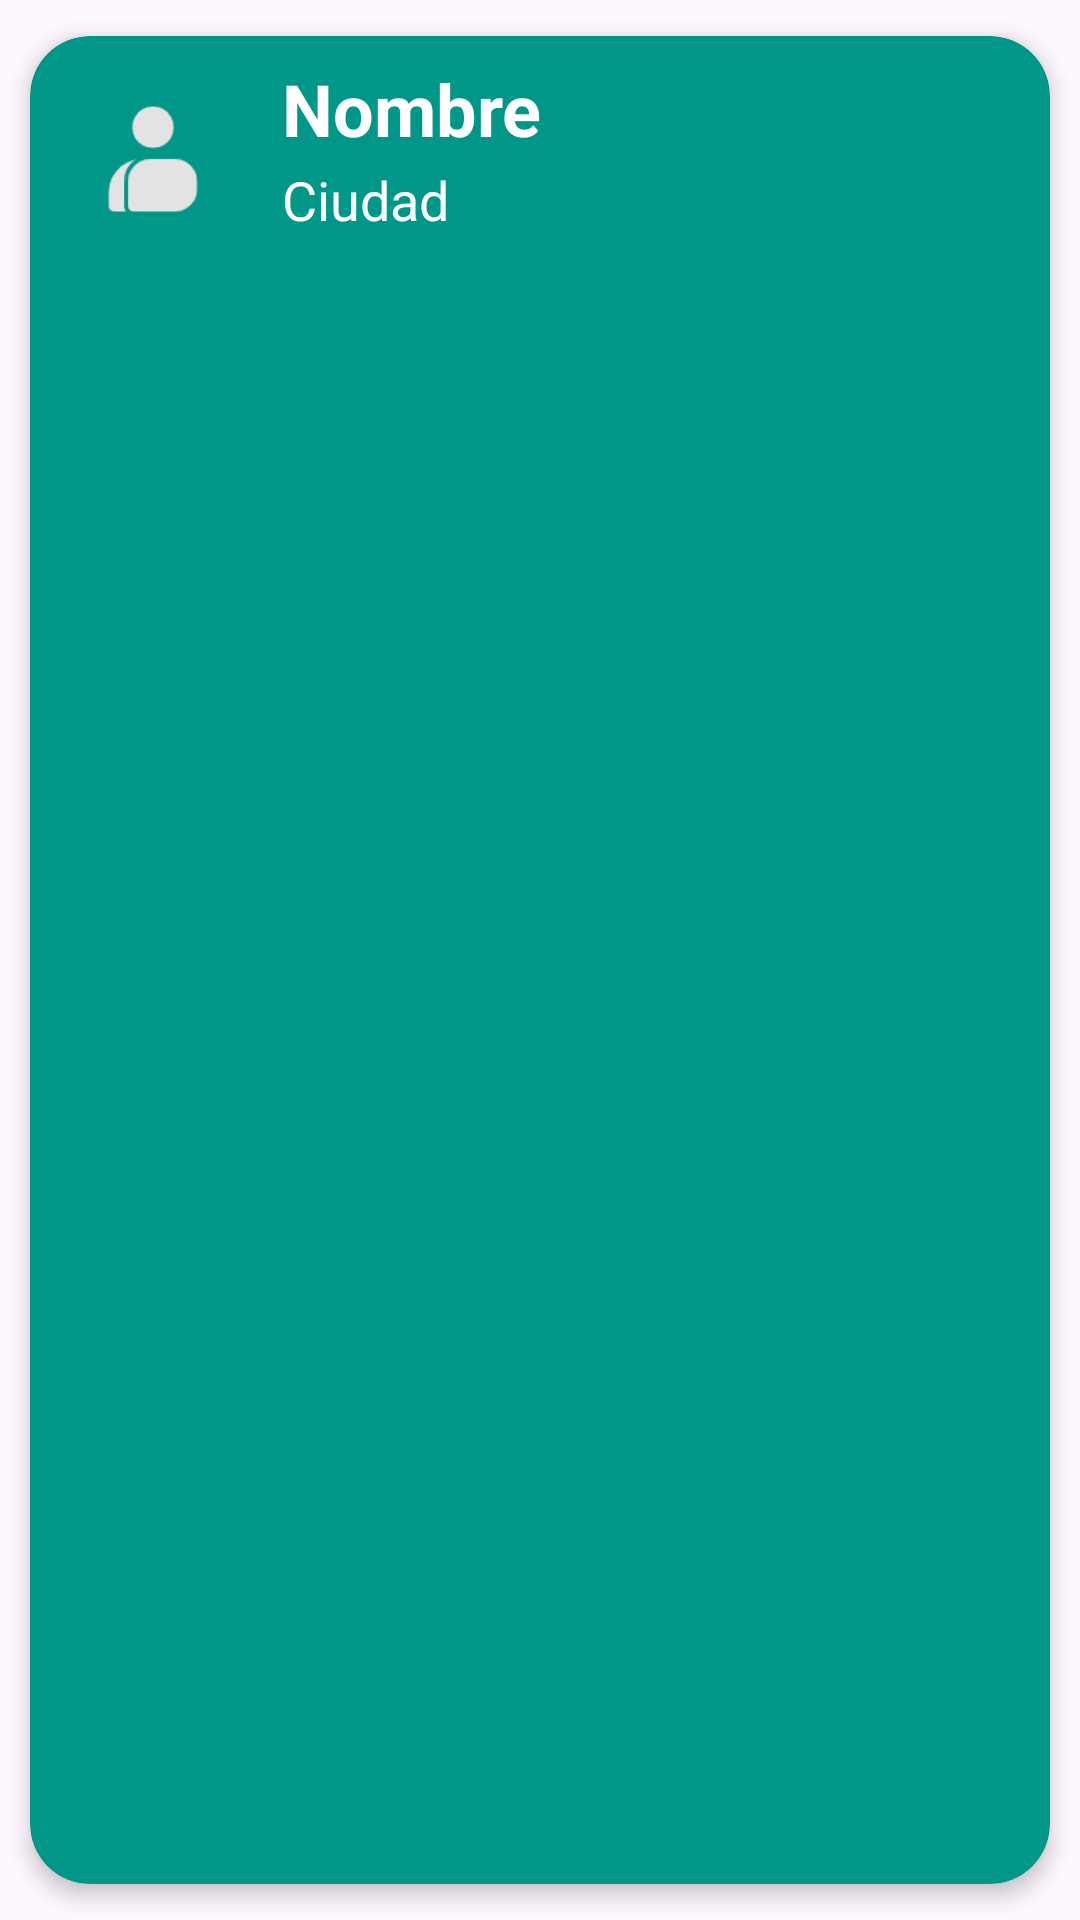

Point at icon controls on the screen. Image size 1080px x 1920px, points as (x,y).
perfil usuario: (153,159)
